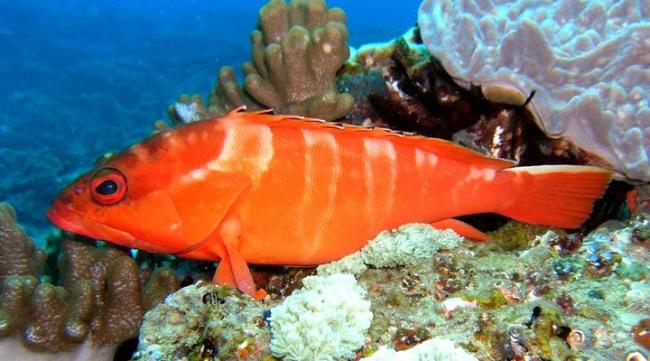fish: (46, 104, 614, 296)
